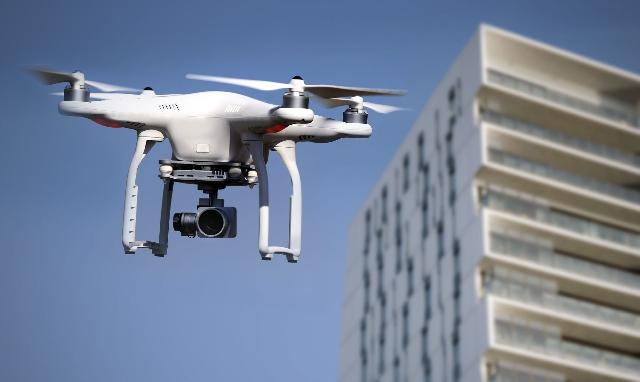drone: (16, 62, 418, 266)
